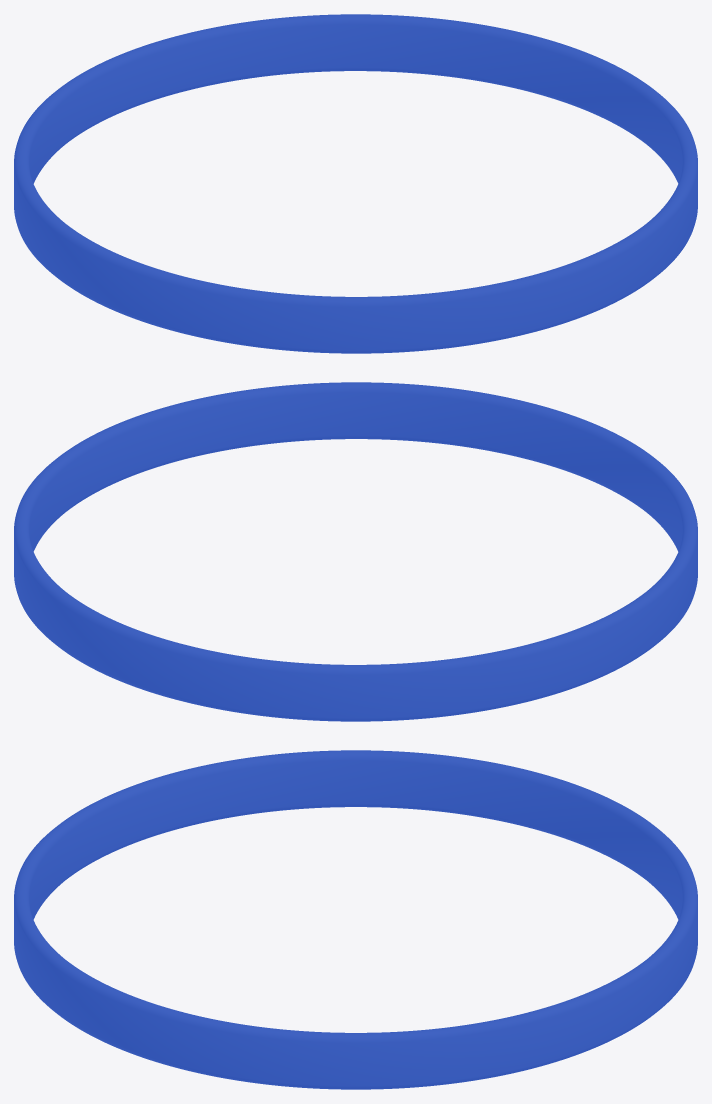
Rendered from singl-ring-final-v2.glb.
3 views of the same model, one above another, from view 1: azimuth 30°, elevation 25°; view 2: azimuth 150°, elevation 25°; view 3: azimuth 270°, elevation 25° (orthographic).
Visible parts, largest first — view 1: BezierCircle.027; view 2: BezierCircle.027; view 3: BezierCircle.027.
Part boxes in pixels (x1=…): BezierCircle.027: x1=14, y1=14, x2=697, y2=353; BezierCircle.027: x1=14, y1=382, x2=697, y2=721; BezierCircle.027: x1=14, y1=750, x2=697, y2=1089.
Size of the model in its own units: 4.1 by 0.3608 by 4.1.
